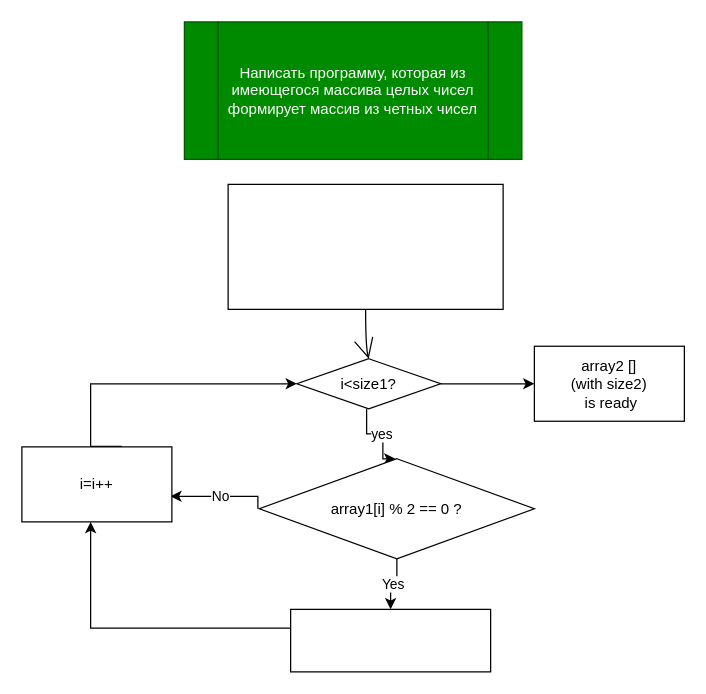
Some shapes in this 706 by 694 pixel diagram are drawn without their labels. The box of each missing label's shape, as (x1, y1, x2, y2) in pixels:
array1 [i] array2 [k] size1; size2=0; i=0; k=0;: (227, 183, 503, 309)
array2 [k] = array1[i]; k++ (size2++): (289, 608, 491, 672)
